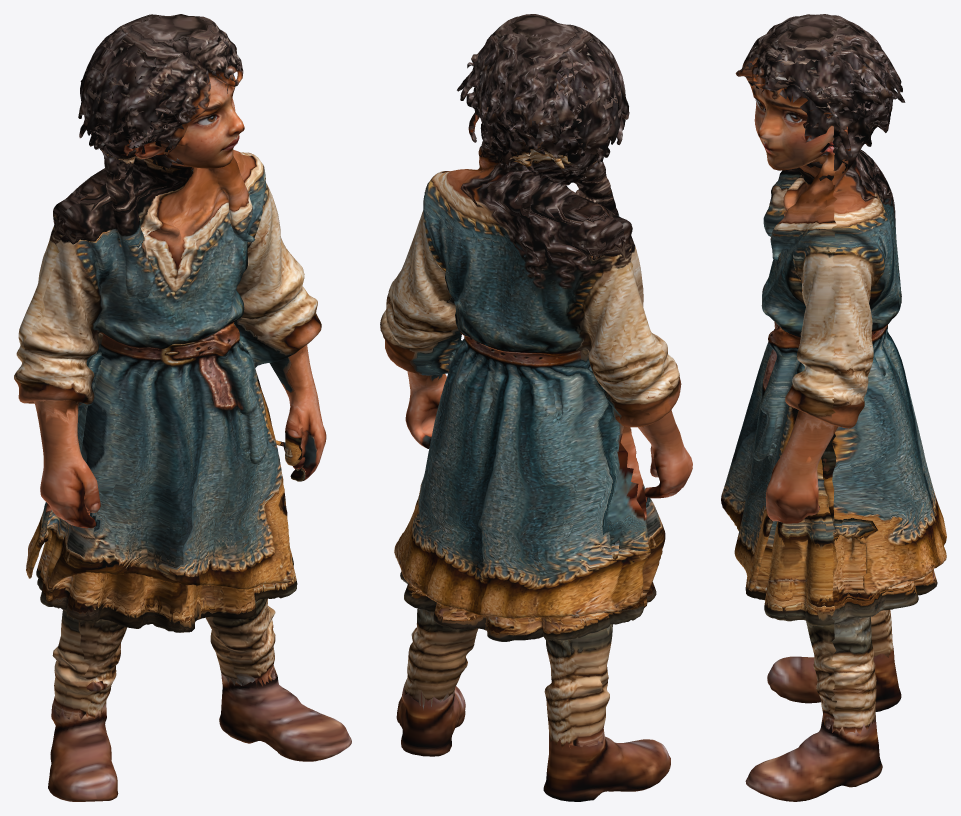
The model's file is menina_pele_escura.glb.
3 renders of one model, left to right at view 1: azimuth 30°, elevation 25°; view 2: azimuth 150°, elevation 25°; view 3: azimuth 270°, elevation 25°, orthographic. The views are drawn at different scales.
Parts seen in each view (by area): view 1: tmp0ho4d_k2.ply; view 2: tmp0ho4d_k2.ply; view 3: tmp0ho4d_k2.ply.
Part boxes in pixels (<box>): tmp0ho4d_k2.ply: <box>14,14,351,801</box>; tmp0ho4d_k2.ply: <box>380,14,692,801</box>; tmp0ho4d_k2.ply: <box>721,14,946,801</box>.
Bounding box in the file's own units: 0.8257 × 1.96 × 0.565.
Materials: 4 (4 with a texture image).
